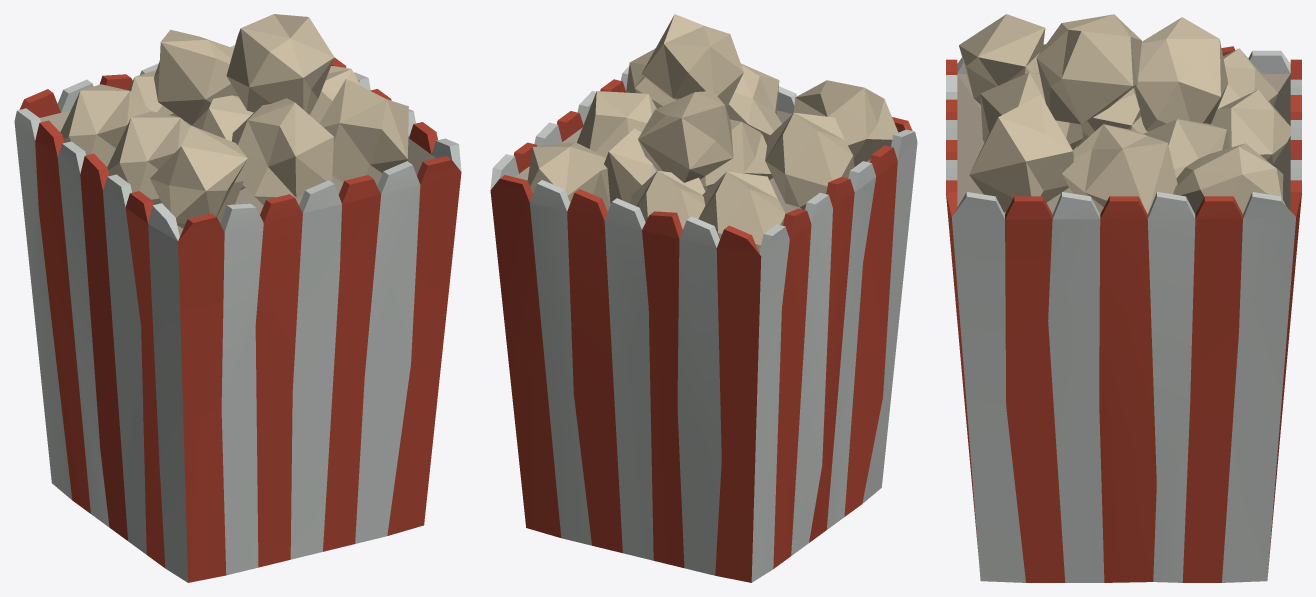
Rendered from Unity2Skfb.gltf.
3 renders of one model, left to right at view 1: azimuth 30°, elevation 25°; view 2: azimuth 150°, elevation 25°; view 3: azimuth 270°, elevation 25°, orthographic. The views are drawn at different scales.
Parts seen in each view (by area): view 1: SM_Prop_LargeSign_Popcorn_02; view 2: SM_Prop_LargeSign_Popcorn_02; view 3: SM_Prop_LargeSign_Popcorn_02.
Boxes of the visible parts, box(x1,y1,x2,y2) form: SM_Prop_LargeSign_Popcorn_02: box(14, 14, 461, 582); SM_Prop_LargeSign_Popcorn_02: box(490, 14, 917, 582); SM_Prop_LargeSign_Popcorn_02: box(946, 14, 1301, 582).
Size of the model in its own units: 1.74 by 2.8 by 1.74.
1 material, 1 textured.
